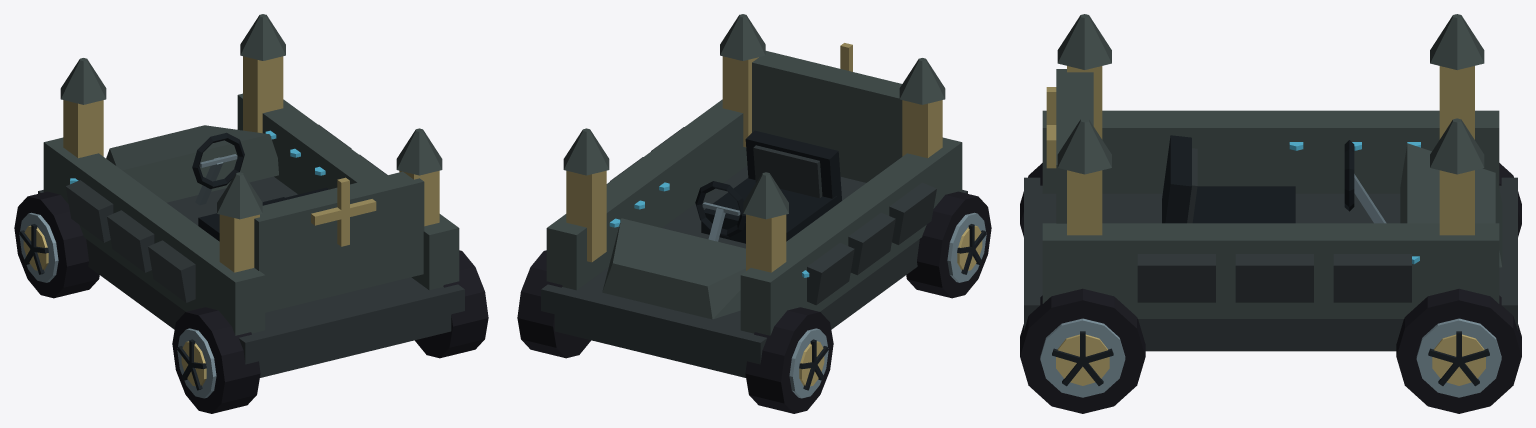
Rendered from kart.glb.
3 views of the same model, side by side, from view 1: azimuth 30°, elevation 25°; view 2: azimuth 150°, elevation 25°; view 3: azimuth 270°, elevation 25° (orthographic). The views are drawn at different scales.
Visible parts, largest first — view 1: identity-reliquary-reliquary-arched-stone-chest, wheel-rear-left, wheel-front-left, identity-reliquary-motif-armor, wheel-rear-right, identity-reliquary-driver-cockpit; view 2: identity-reliquary-reliquary-arched-stone-chest, identity-reliquary-driver-cockpit, wheel-front-left, wheel-rear-left, identity-reliquary-motif-armor, wheel-front-right; view 3: identity-reliquary-reliquary-arched-stone-chest, wheel-front-right, wheel-rear-right, identity-reliquary-motif-armor, identity-reliquary-driver-cockpit.
Part boxes in pixels (<box>): identity-reliquary-reliquary-arched-stone-chest: <box>38,14,464,377</box>; wheel-rear-left: <box>172,307,260,413</box>; wheel-front-left: <box>14,191,99,298</box>; identity-reliquary-motif-armor: <box>65,124,387,302</box>; wheel-rear-right: <box>415,250,488,358</box>; identity-reliquary-driver-cockpit: <box>192,132,329,241</box>; identity-reliquary-reliquary-arched-stone-chest: <box>541,14,967,377</box>; identity-reliquary-driver-cockpit: <box>695,130,841,243</box>; wheel-front-left: <box>745,307,833,413</box>; wheel-rear-left: <box>906,191,991,298</box>; identity-reliquary-motif-armor: <box>610,127,936,305</box>; wheel-front-right: <box>517,250,590,358</box>; identity-reliquary-reliquary-arched-stone-chest: <box>1024,14,1517,351</box>; wheel-front-right: <box>1396,288,1521,413</box>; wheel-rear-right: <box>1020,288,1145,413</box>; identity-reliquary-motif-armor: <box>1137,254,1411,302</box>; identity-reliquary-driver-cockpit: <box>1162,135,1386,223</box>.
Size of the model in its own units: 1.97 by 1.51 by 2.56.
